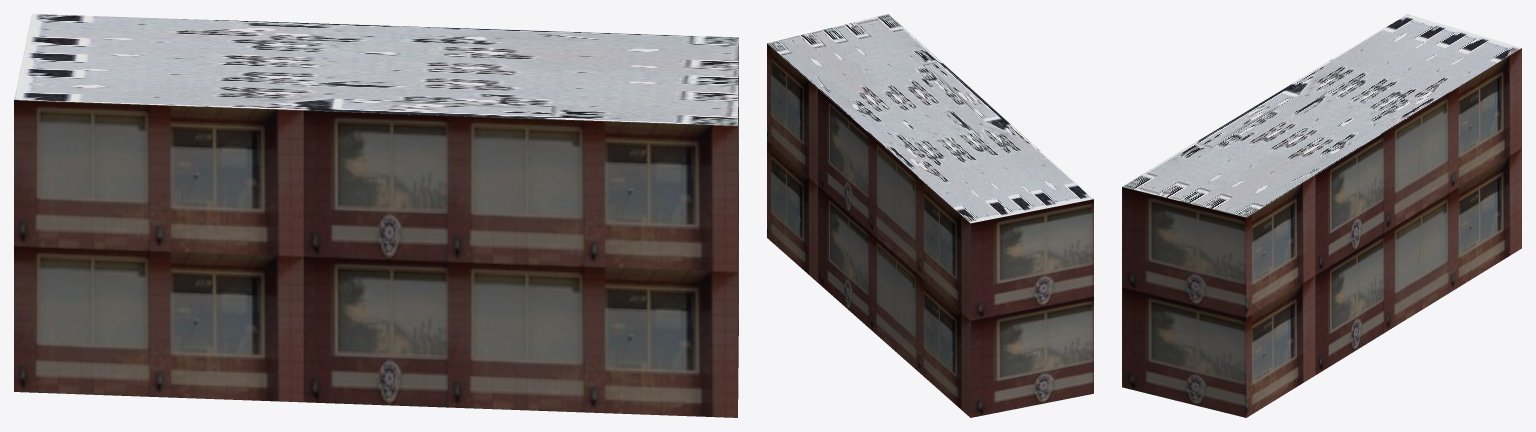
Rendered from ResTex__2215.fbx.
3 views of the same model, side by side, from view 1: azimuth 30°, elevation 25°; view 2: azimuth 150°, elevation 25°; view 3: azimuth 270°, elevation 25° (orthographic). The views are drawn at different scales.
Visible parts, largest first — view 1: CityEngineMaterial_13_m, CityEngineMaterial_2_m; view 2: CityEngineMaterial_13_m, CityEngineMaterial_2_m; view 3: CityEngineMaterial_13_m, CityEngineMaterial_2_m.
Boxes of the visible parts, <box> form: CityEngineMaterial_13_m: <box>14,44,738,417</box>; CityEngineMaterial_2_m: <box>14,14,738,125</box>; CityEngineMaterial_13_m: <box>767,43,1093,417</box>; CityEngineMaterial_2_m: <box>767,14,1093,223</box>; CityEngineMaterial_13_m: <box>1122,48,1521,417</box>; CityEngineMaterial_2_m: <box>1122,14,1521,217</box>.
Bounding box in the file's own units: 13.07 × 6 × 10.85.
2 materials, 2 textured.
